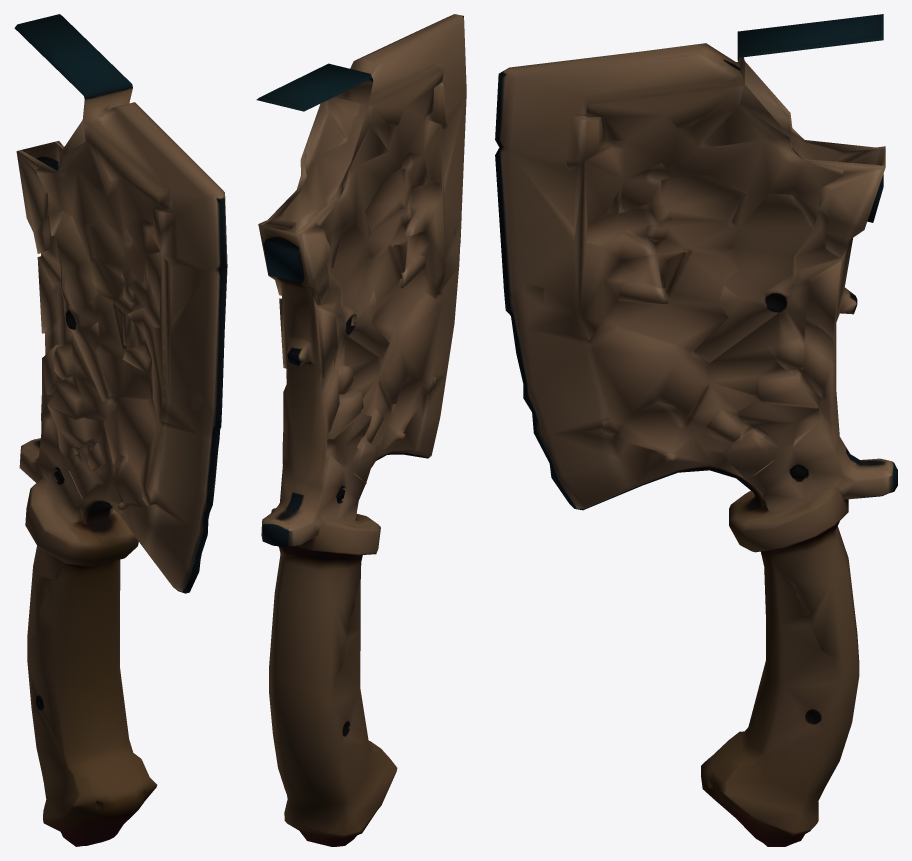
File: notched_cleaver.glb
3 views of the same model, side by side, from view 1: azimuth 30°, elevation 25°; view 2: azimuth 150°, elevation 25°; view 3: azimuth 270°, elevation 25° (orthographic). The views are drawn at different scales.
Visible parts, largest first — view 1: base_model_path; view 2: base_model_path; view 3: base_model_path.
Boxes of the visible parts, left/top/right/bottom form: base_model_path: left=14, top=14, right=227, bottom=846; base_model_path: left=256, top=14, right=466, bottom=846; base_model_path: left=495, top=14, right=897, bottom=846.
Bounding box in the file's own units: 0.1311 × 1 × 0.4481.
1 material, 1 textured.
